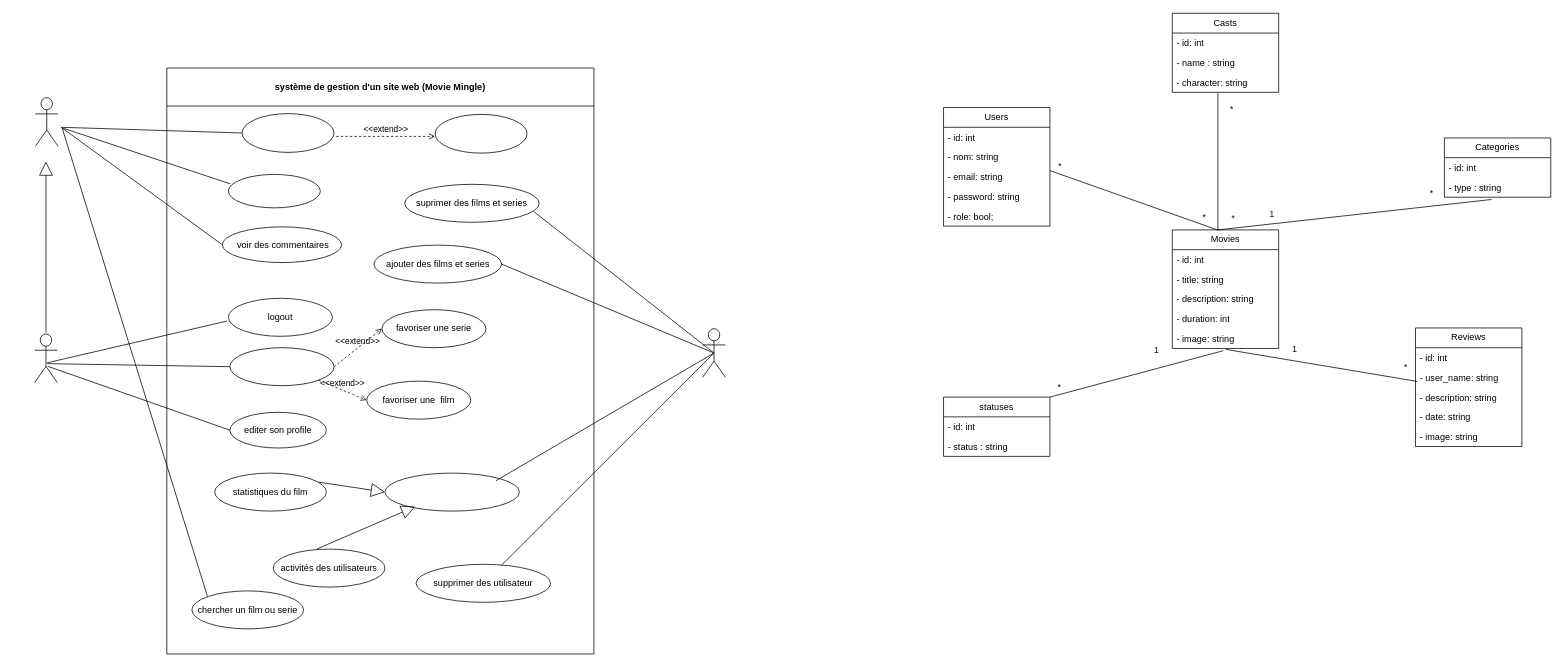
Some shapes in this 1564 by 667 pixel diagram are drawn without their labels. Each missing label, with the centre of its shape:
Admin: (713,352)
creer un compte: (287,132)
Gerer des favorises: (281,366)
gestion des rapports: (451,491)
regarder un film: (274,191)
Registered User: (45,358)
se connecter: (480,133)
User: (46,121)
